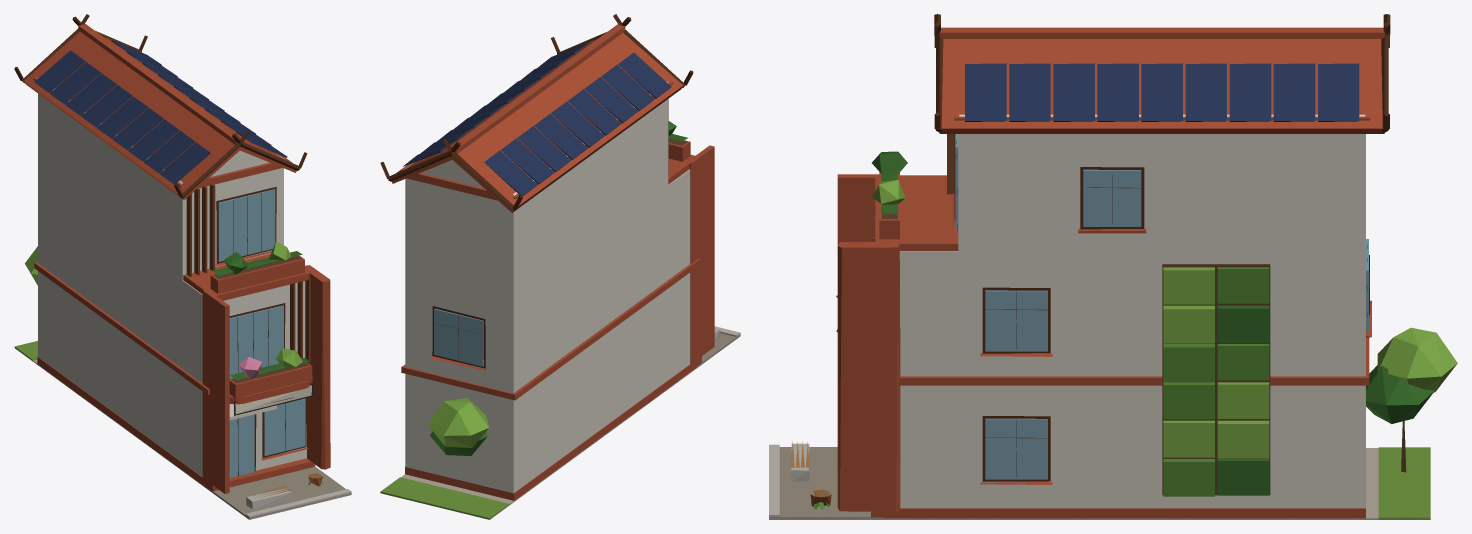
File: bay1_right.glb
3 views of the same model, side by side, from view 1: azimuth 30°, elevation 25°; view 2: azimuth 150°, elevation 25°; view 3: azimuth 270°, elevation 25° (orthographic). The views are drawn at different scales.
Visible parts, largest first — view 1: body; view 2: body; view 3: body.
Part boxes in pixels (bbox=[...]): body: bbox=[14, 14, 351, 519]; body: bbox=[380, 14, 740, 519]; body: bbox=[769, 14, 1457, 519].
Bounding box in the file's own units: 5.22 × 12.62 × 16.56.
